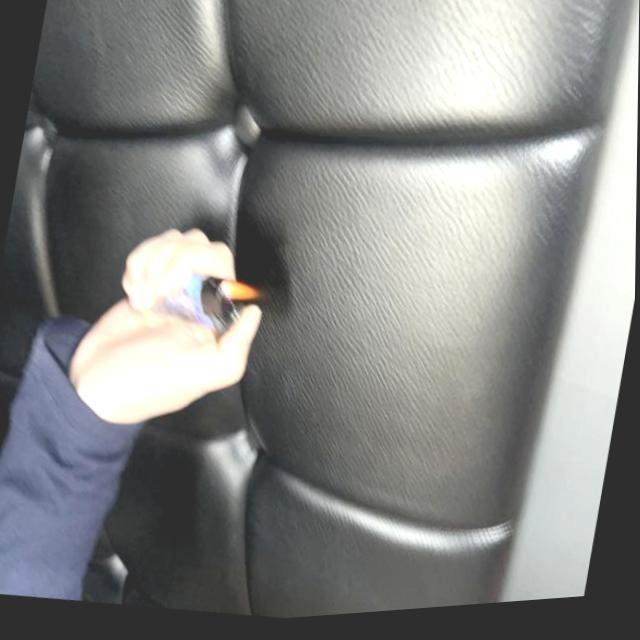Fire: (217, 282, 263, 309)
